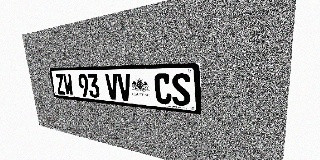3: (87, 74, 100, 98)
9: (77, 74, 90, 97)
C: (154, 73, 172, 105)
S: (171, 73, 191, 107)
V: (117, 73, 132, 101), (105, 73, 119, 100)
W: (63, 74, 74, 96)
Z: (55, 74, 66, 95)
